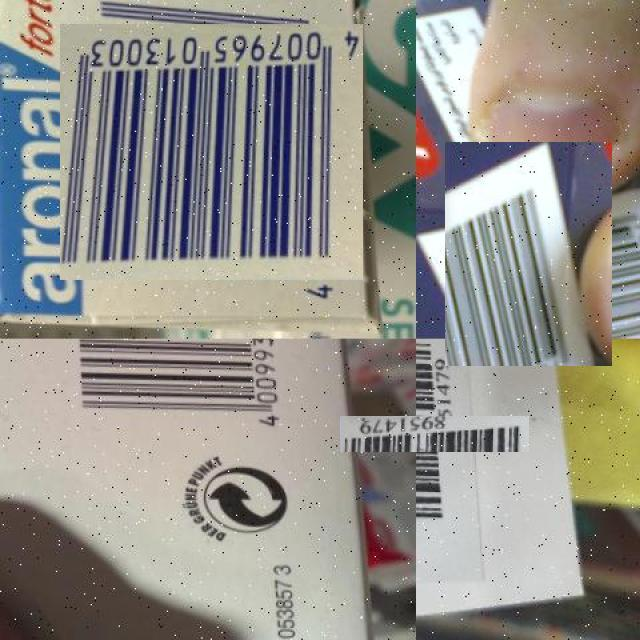Barcode: (71, 12, 352, 291), (430, 156, 626, 352), (53, 339, 288, 436), (378, 377, 491, 490)
